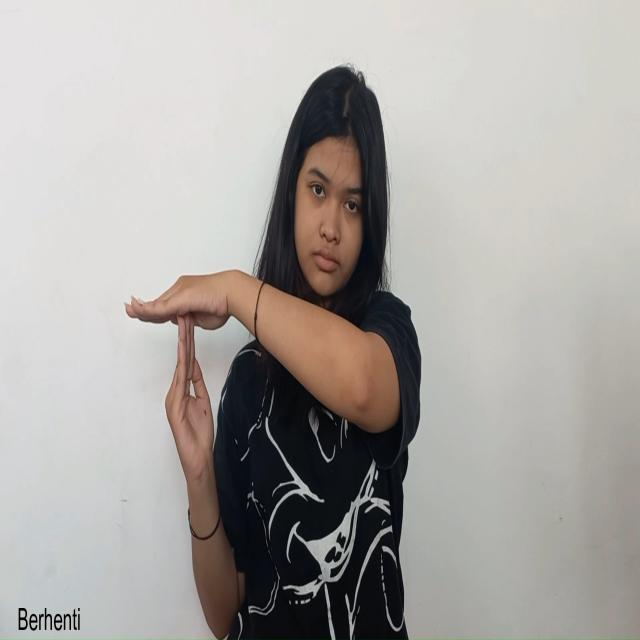Berhenti -BISINDO-: (123, 265, 244, 501)
